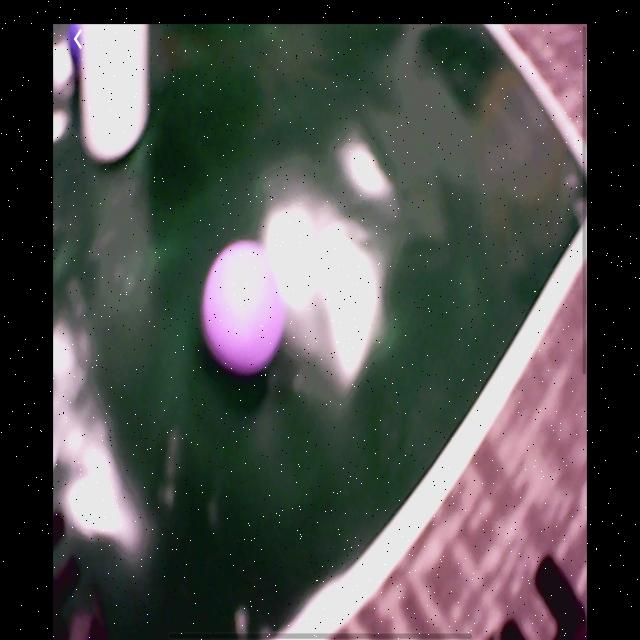ball: (202, 238, 289, 387), (69, 27, 79, 73)
